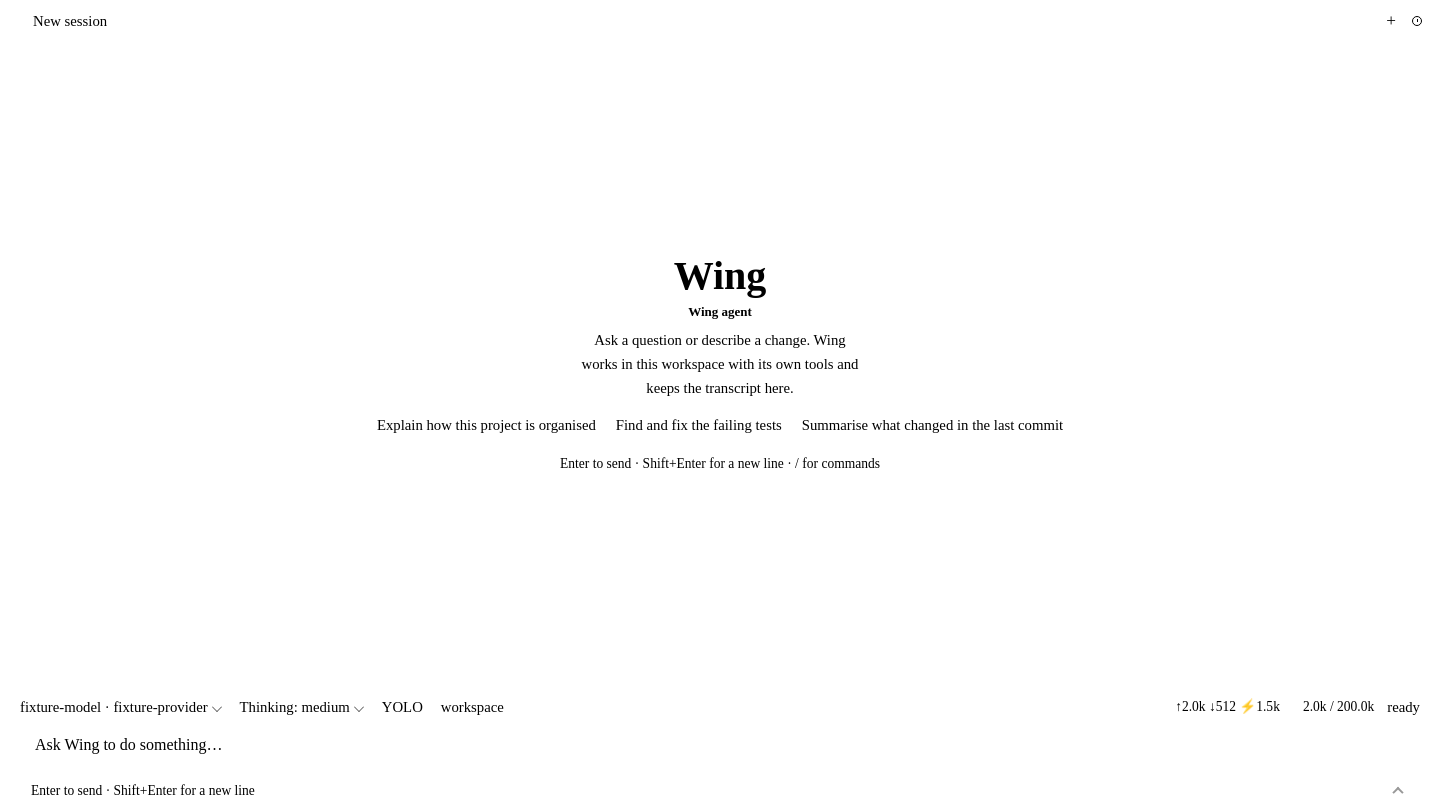
Scenario: welcome view › fills the composer instead of sending (the shell never presses send)
Click the button with test id "welcome-suggestion" that starts with "Explain how this project is organised".
click(486, 426)  # box x1=370 y1=416 x2=603 y2=436
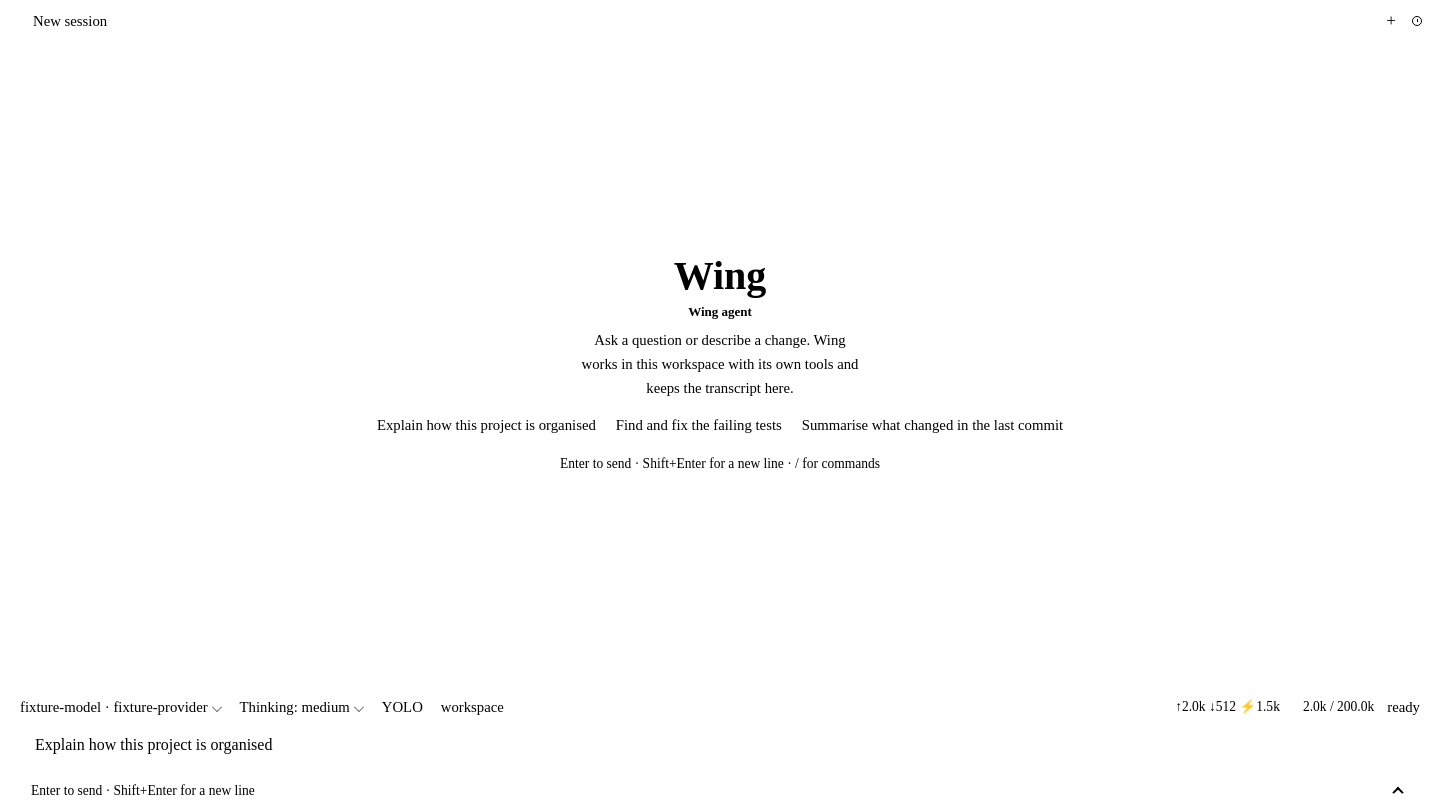
Now the dropdown with test id "composer-input" holds "Explain how this project is organised", box x1=31 y1=727 x2=1409 y2=775
